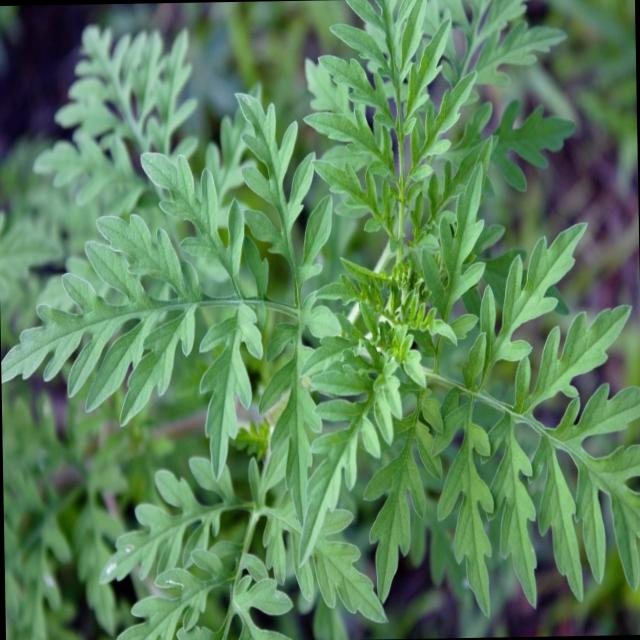ambrosia: (53, 110, 350, 500), (360, 202, 612, 602), (299, 13, 538, 232)
